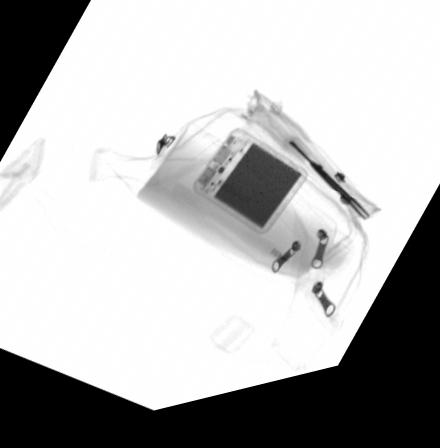Powerbank: (192, 135, 305, 246)
Scissors: (280, 146, 378, 244)
